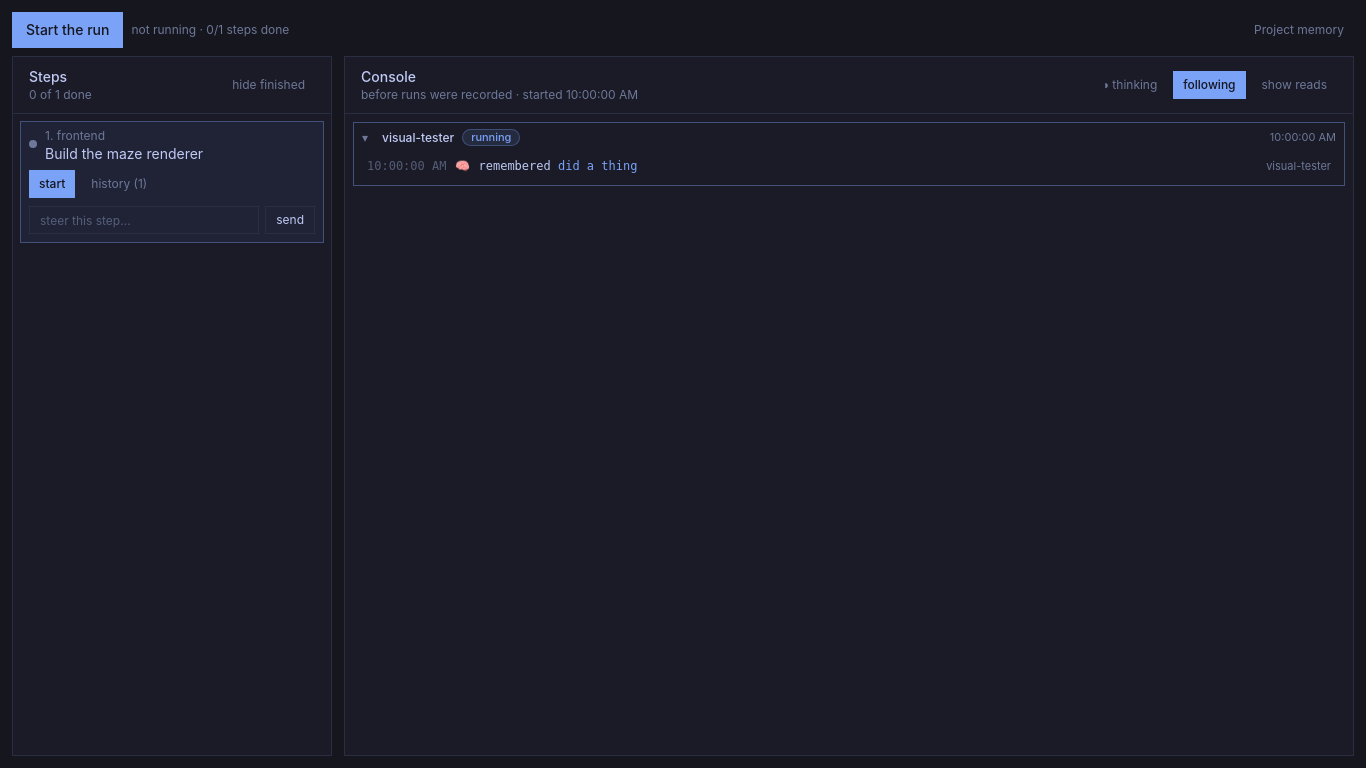
Test: the run page's step actions › opens the run history even when only one run exists
The width and height of the screenshot is (1366, 768).
Expected: the text "Build the maze renderer" is shown, [45,145,203,162]
Click the button "history (1)" at point(119, 184), box [81,170,157,198]
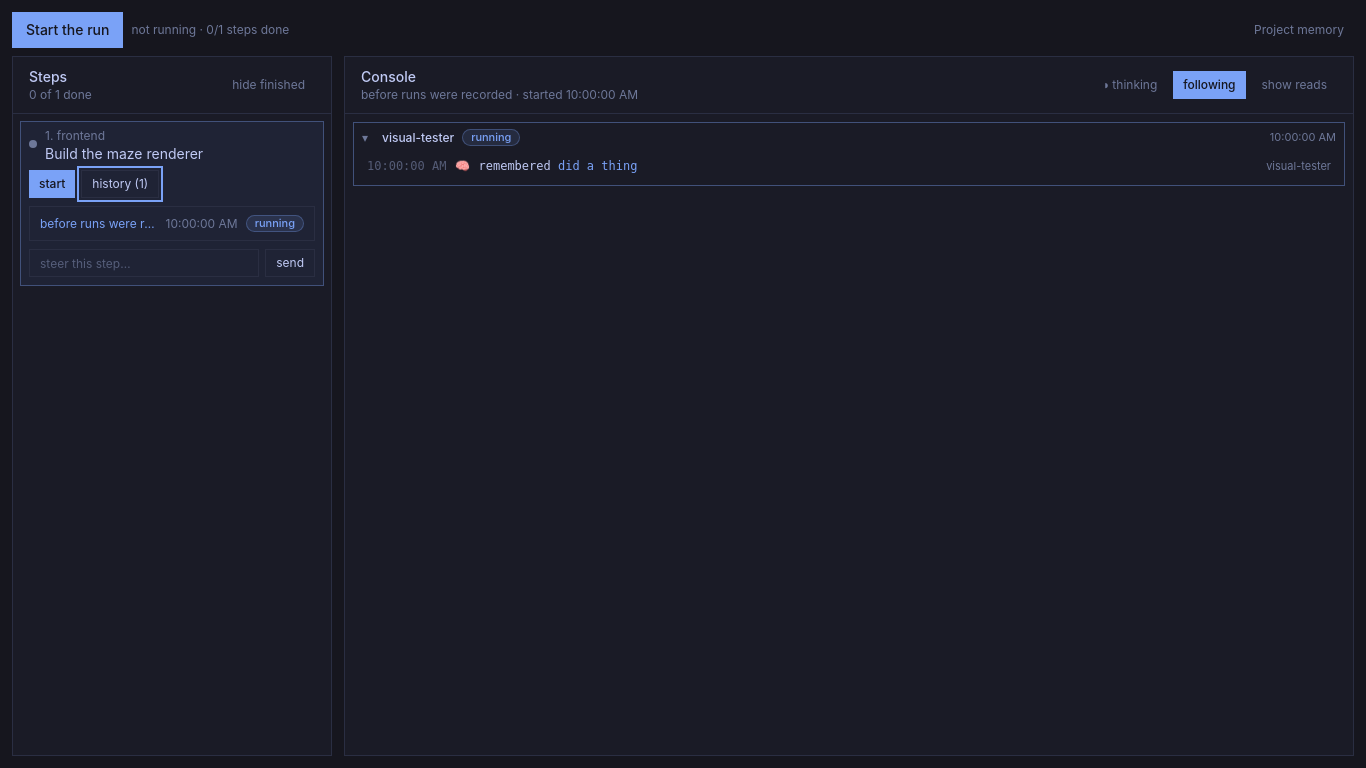
Now the button "before runs were recorded 10:00:00 AM running" is shown, box [34,211,310,236]
